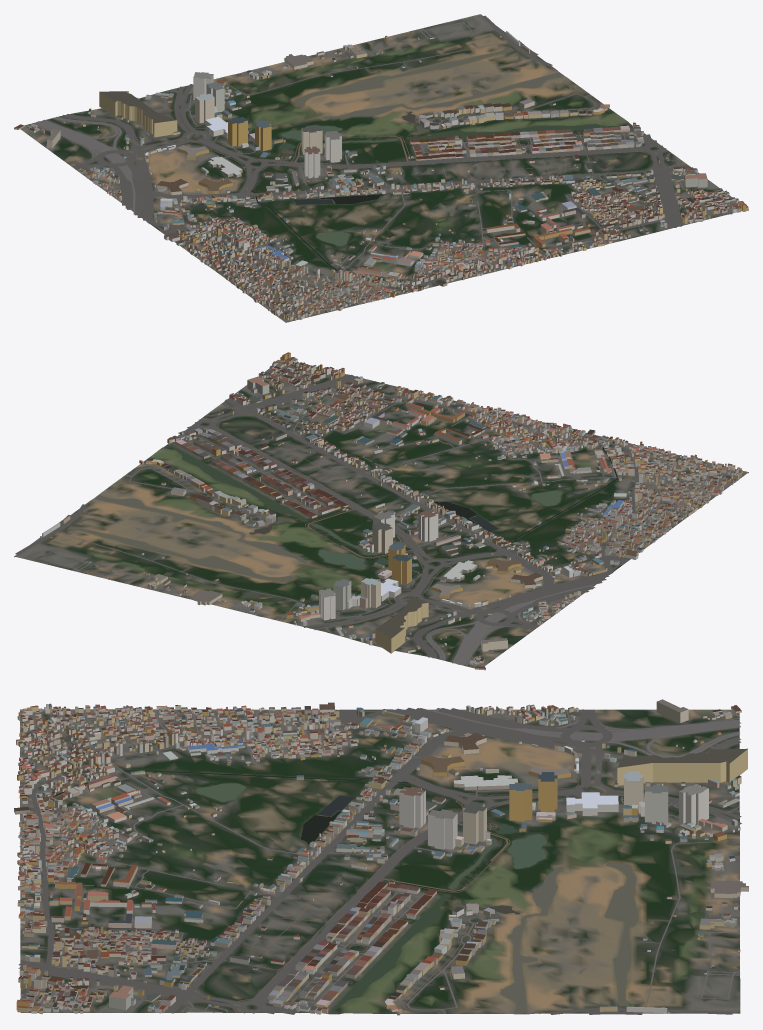
3 views of the same model, one above another, from view 1: azimuth 30°, elevation 25°; view 2: azimuth 150°, elevation 25°; view 3: azimuth 270°, elevation 25° (orthographic). The views are drawn at different scales.
Parts seen in each view (by area): view 1: ground, buildings, roads, water; view 2: ground, buildings, roads, water; view 3: ground, buildings, roads, water.
Boxes of the visible parts, x1=… form: ground: x1=21, y1=14, x2=748, y2=322; buildings: x1=14, y1=31, x2=748, y2=320; roads: x1=20, y1=15, x2=731, y2=322; water: x1=236, y1=47, x2=632, y2=290; ground: x1=14, y1=363, x2=748, y2=668; buildings: x1=40, y1=352, x2=742, y2=670; roads: x1=15, y1=362, x2=746, y2=667; water: x1=67, y1=441, x2=617, y2=616; ground: x1=20, y1=709, x2=740, y2=1014; buildings: x1=14, y1=699, x2=748, y2=1015; roads: x1=18, y1=707, x2=741, y2=1014; water: x1=28, y1=770, x2=739, y2=1013.
Size of the model in its own units: 1423 by 76.4 by 1432.
